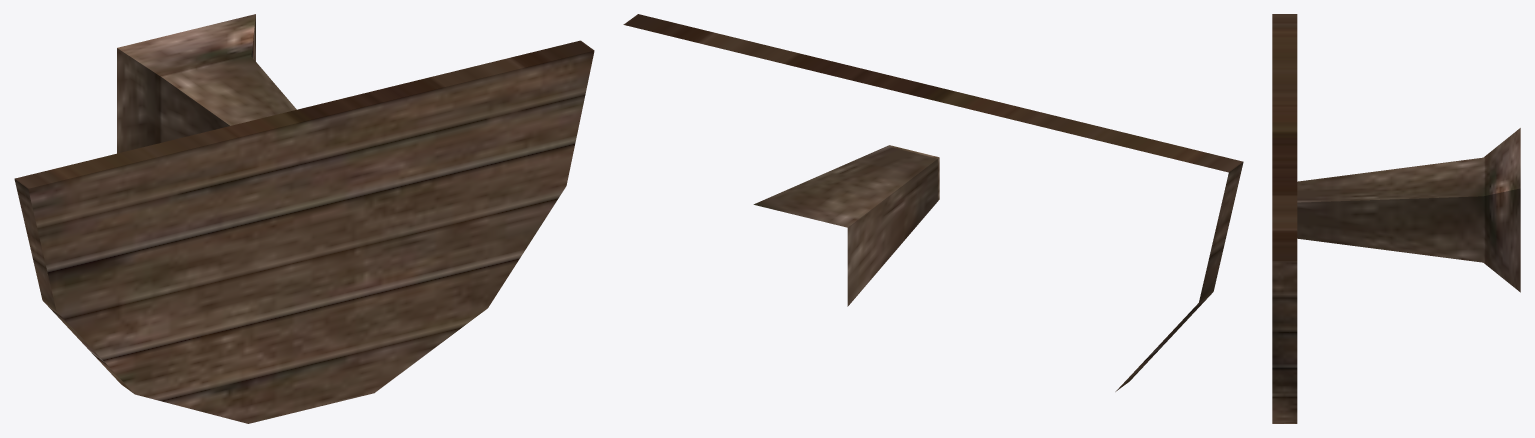
3 renders of one model, left to right at view 1: azimuth 30°, elevation 25°; view 2: azimuth 150°, elevation 25°; view 3: azimuth 270°, elevation 25°, orthographic. The views are drawn at different scales.
Parts seen in each view (by area): view 1: model_Object47; view 2: model_Object47; view 3: model_Object47.
Boxes of the visible parts, x1,y1,x2,y2 form: model_Object47: (14, 14, 594, 423); model_Object47: (623, 14, 1243, 391); model_Object47: (1272, 14, 1520, 423).
Size of the model in its own units: 2.04 by 0.9929 by 0.8633.
1 material, 1 textured.
